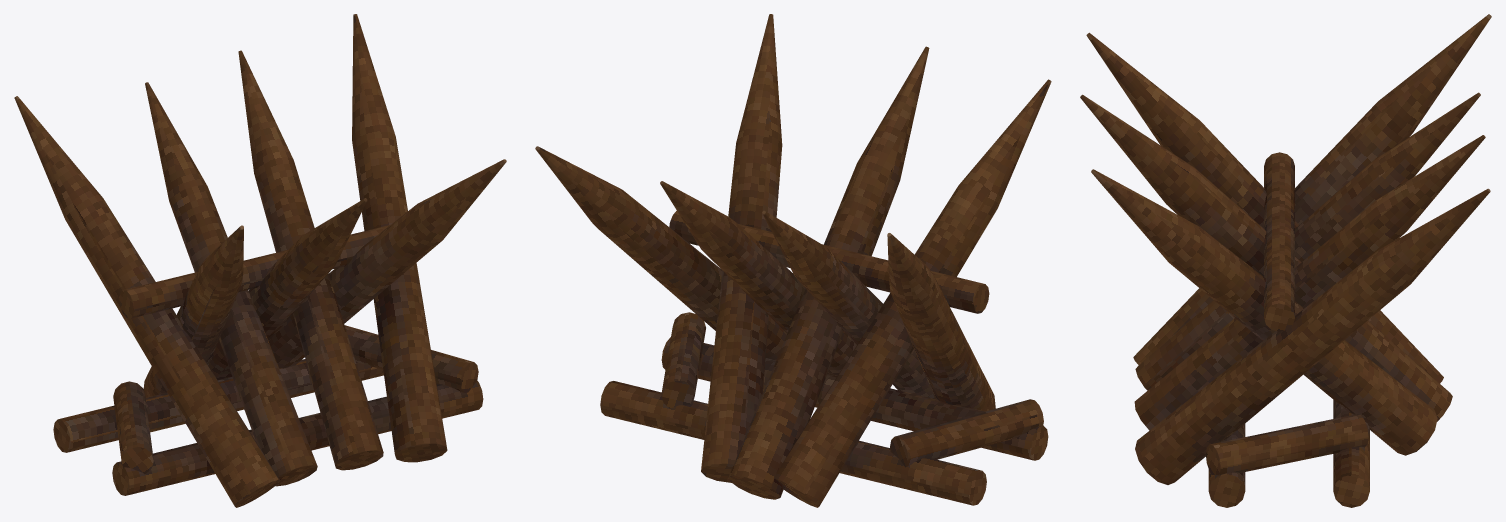
Rendered from Spike_Fence_Variant_3.gltf.
The picture shows the model from 3 angles, left to right: view 1: azimuth 30°, elevation 25°; view 2: azimuth 150°, elevation 25°; view 3: azimuth 270°, elevation 25°; orthographic projection. The views are drawn at different scales.
Parts seen in each view (by area): view 1: Spike_Fence_Variant_3; view 2: Spike_Fence_Variant_3; view 3: Spike_Fence_Variant_3.
Part boxes in pixels (x1,y1,x2,y2): Spike_Fence_Variant_3: (14, 14, 506, 507); Spike_Fence_Variant_3: (535, 14, 1051, 507); Spike_Fence_Variant_3: (1080, 14, 1491, 507).
Bounding box in the file's own units: 4.86 × 4.1 × 4.53.
1 material, 1 textured.
